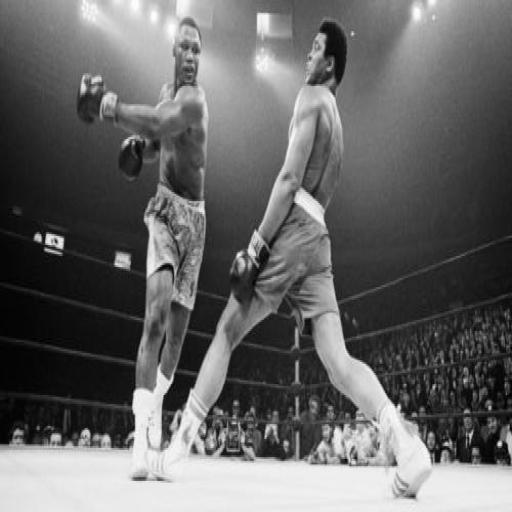boxing: (151, 17, 433, 499), (76, 15, 210, 481)
